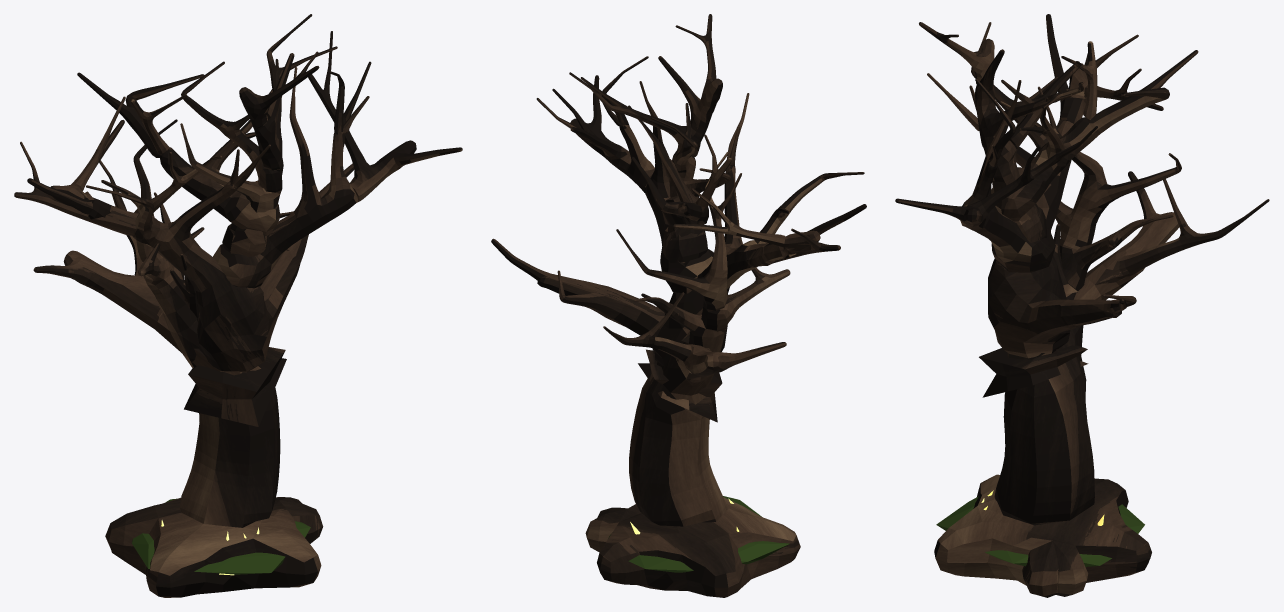
Rendered from hollow_oak.glb.
The picture shows the model from 3 angles, left to right: view 1: azimuth 30°, elevation 25°; view 2: azimuth 150°, elevation 25°; view 3: azimuth 270°, elevation 25°; orthographic projection. The views are drawn at different scales.
Visible parts, largest first — view 1: tree_oak_101; view 2: tree_oak_101; view 3: tree_oak_101.
Part boxes in pixels (x1,y1,x2,y2): tree_oak_101: (14, 14, 462, 597); tree_oak_101: (491, 14, 866, 597); tree_oak_101: (895, 14, 1269, 597).
Size of the model in its own units: 8.84 by 12.53 by 7.58.
Materials: 3 (2 with a texture image).
